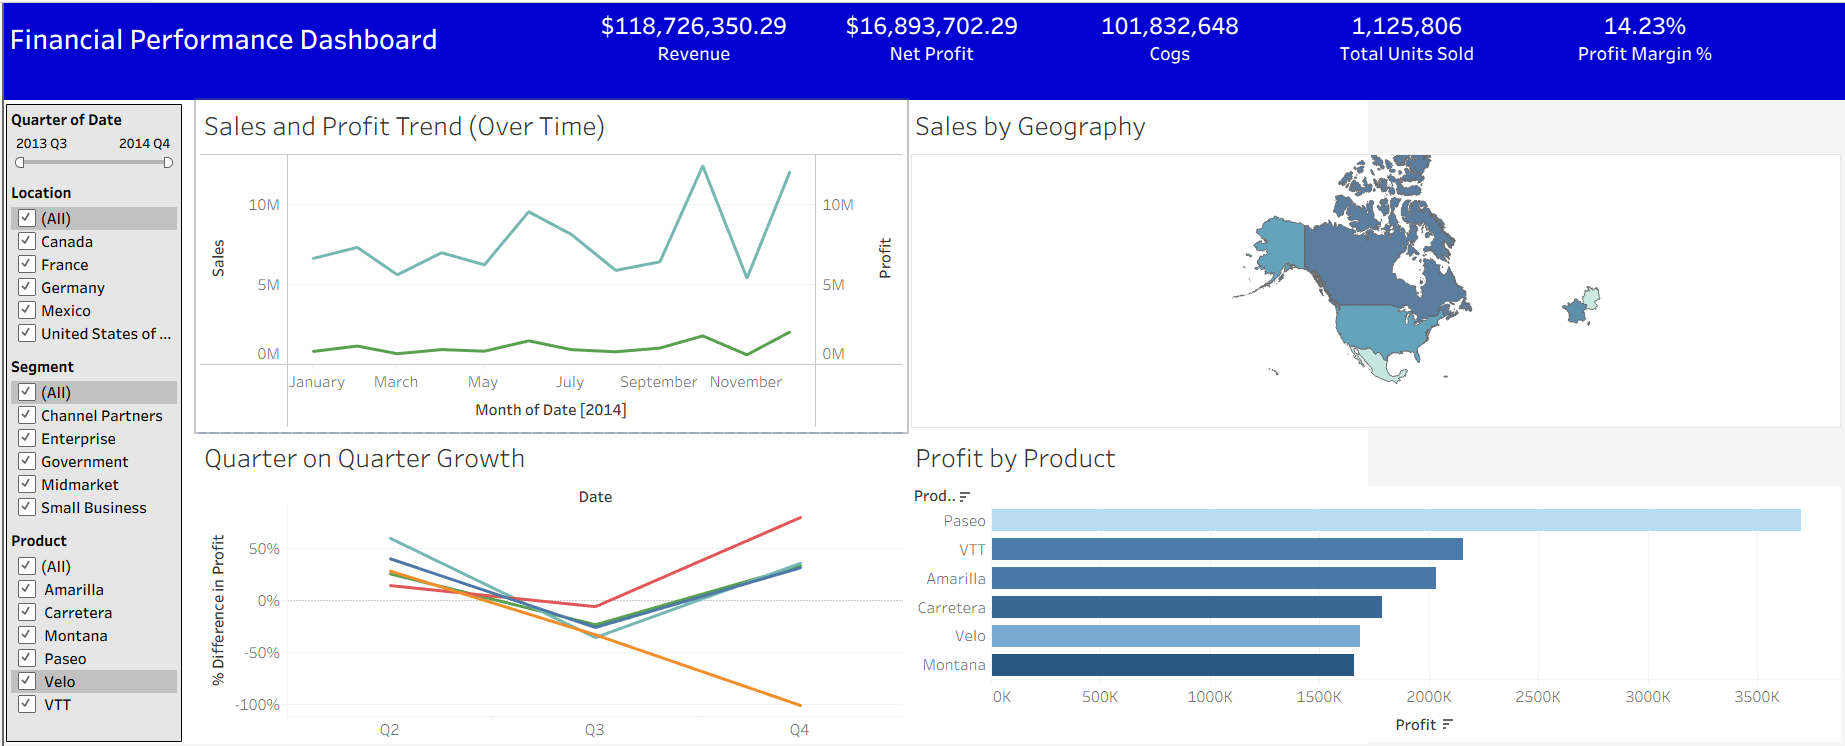

The dashboard page shown, as its layout file describes it:
{"tool":"tableau","page":{"name":"Financial Perormance Dashboard","canvas":[1366,768],"ordinal":0},"visuals":[{"type":"text","box":[0,0,569,124]},{"type":"blank","box":[184,124,10,646]},{"type":"worksheet","title":"Sales and Profit Trend (Over Time)","mark":"Automatic","rows":["Sales","Profit"],"cols":["Date"],"box":[194,124,711,332.5]},{"type":"filter","title":"KPIs Overview","param":"[federated.1sjctws0lpjsy9144r2rc1or9kml].[tqr:Date:qk]","box":[5,129,174,75]},{"type":"filter","title":"KPIs Overview","param":"[federated.1sjctws0lpjsy9144r2rc1or9kml].[Country (group)]","box":[5,204,174,176]},{"type":"filter","title":"KPIs Overview","param":"[federated.1sjctws0lpjsy9144r2rc1or9kml].[none:Segment:nk]","box":[5,380,174,176]},{"type":"worksheet","title":"Quarter on Quarter Growth","mark":"Line","rows":["Profit"],"cols":["Date"],"box":[194,456.5,711,313.5]},{"type":"filter","title":"KPIs Overview","param":"[federated.1sjctws0lpjsy9144r2rc1or9kml].[none:Product:nk]","box":[5,556,174,197]}]}

Visuals, with their boxes on the page's 1366x768 design canvas (x1, y1, x2, y2). These are canvas units, not pixel positions in the 1845x746 screenshot, which may show the page scaled, cropped or inside an application window:
text: [0, 0, 569, 124]
blank: [184, 124, 194, 770]
"Sales and Profit Trend (Over Time)" worksheet: [194, 124, 905, 456]
"KPIs Overview" filter: [5, 129, 179, 204]
"KPIs Overview" filter: [5, 204, 179, 380]
"KPIs Overview" filter: [5, 380, 179, 556]
"Quarter on Quarter Growth" worksheet (Line marks): [194, 456, 905, 770]
"KPIs Overview" filter: [5, 556, 179, 753]
